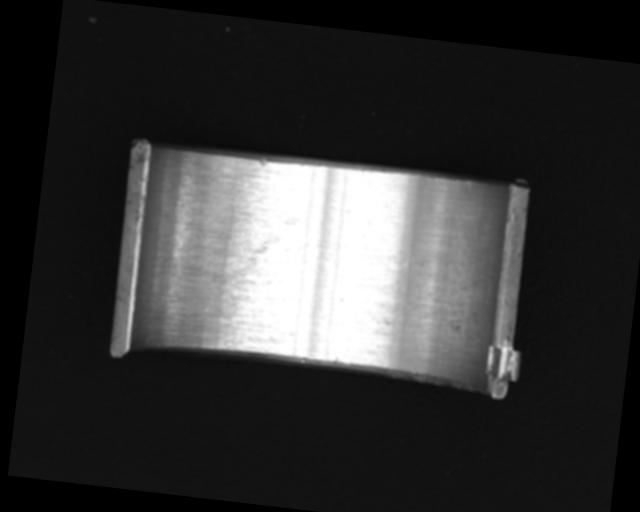bruise: (256, 157, 269, 168)
